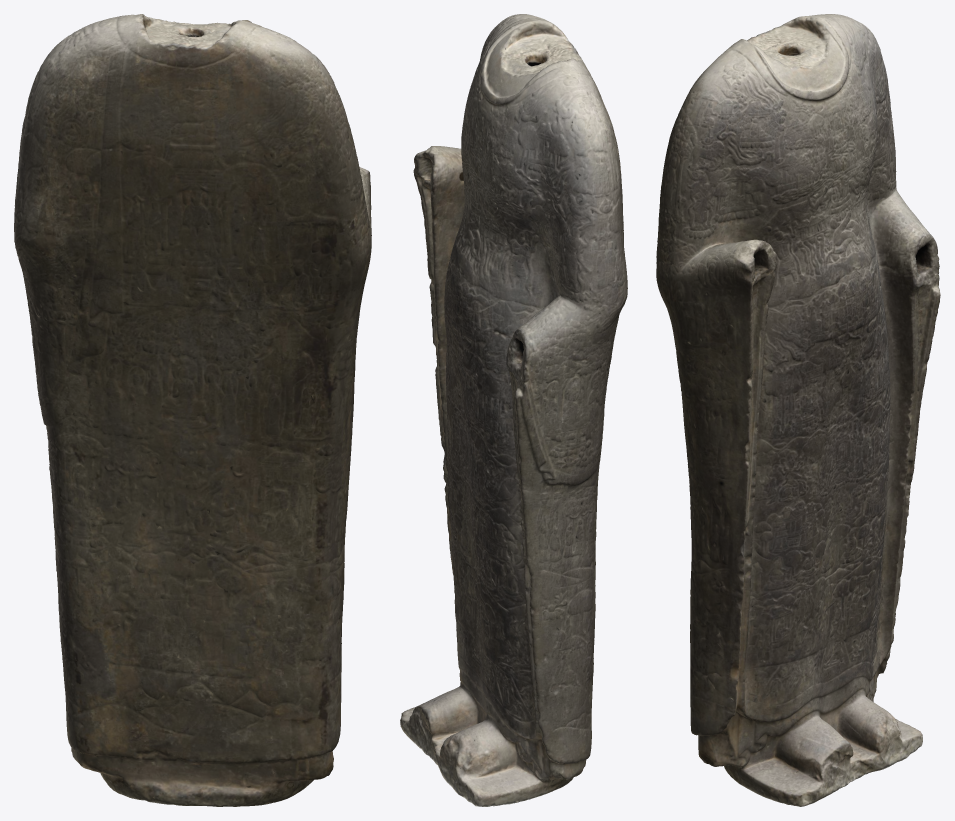
The model's file is bouddha-cosmique.glb.
The picture shows the model from 3 angles, left to right: view 1: azimuth 30°, elevation 25°; view 2: azimuth 150°, elevation 25°; view 3: azimuth 270°, elevation 25°; orthographic projection. The views are drawn at different scales.
Bounding box in the file's own units: 590 × 1515 × 544.
1 material, 1 textured.
